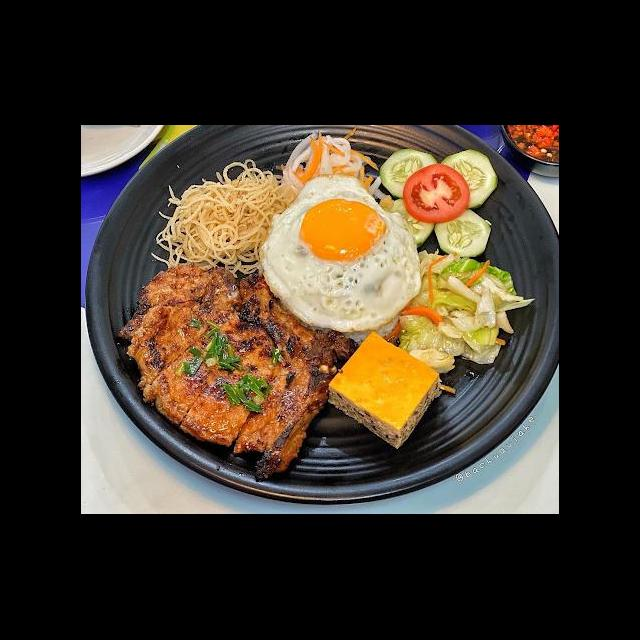bi: (149, 157, 299, 276)
cha: (324, 328, 443, 451)
com suon bi cha trung: (92, 147, 559, 506)
dua chua: (396, 248, 537, 378), (271, 130, 391, 204)
suon: (116, 260, 360, 482)
trung: (256, 172, 424, 334)
